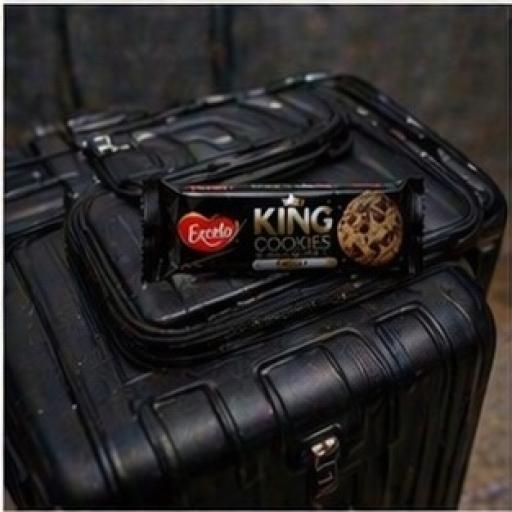king_cooking: (123, 115, 459, 335)
